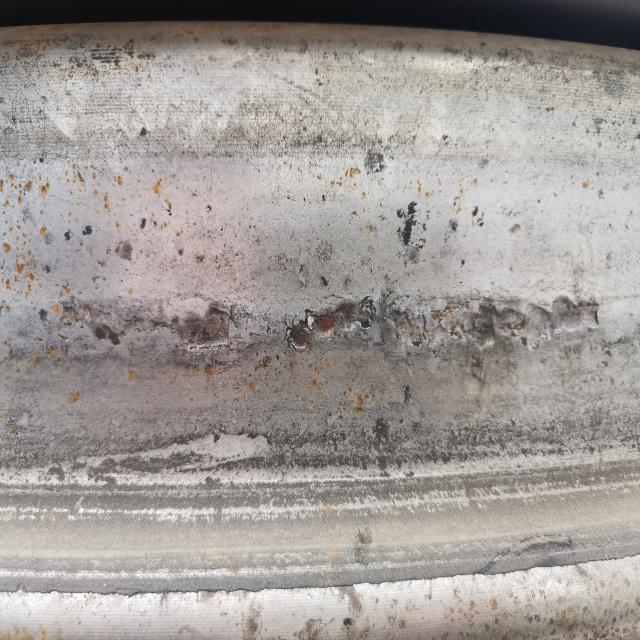Peeling: (464, 298, 601, 345), (287, 294, 377, 346), (176, 305, 237, 352), (65, 302, 122, 347), (391, 303, 427, 351)
